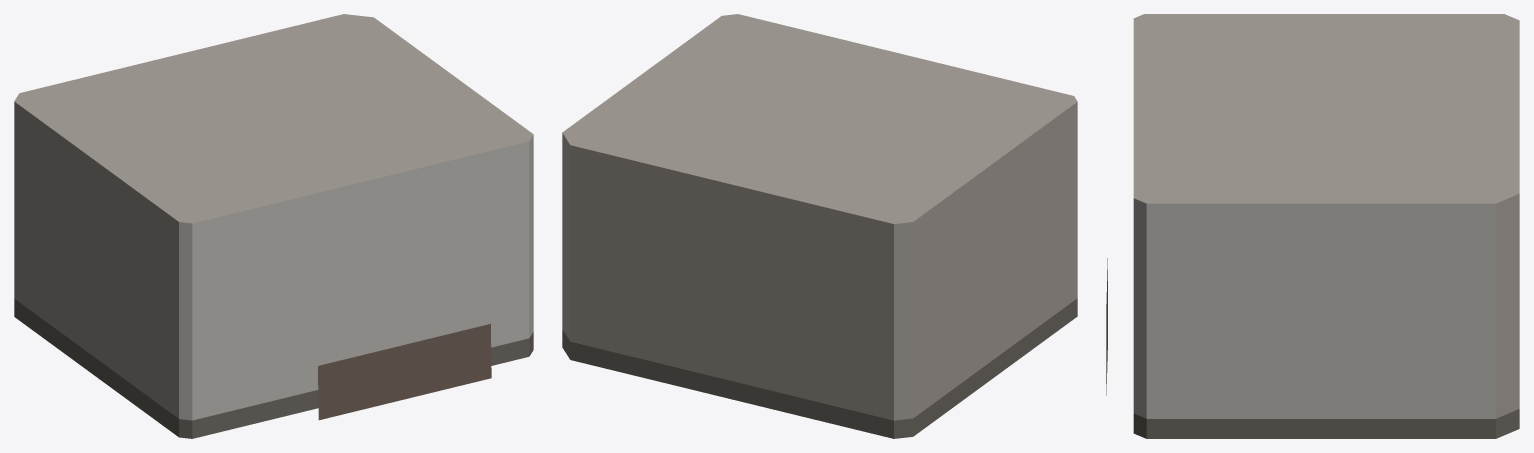
File: loin-etape-1.glb
3 views of the same model, side by side, from view 1: azimuth 30°, elevation 25°; view 2: azimuth 150°, elevation 25°; view 3: azimuth 270°, elevation 25° (orthographic). The views are drawn at different scales.
Visible parts, largest first — view 1: loin; view 2: loin; view 3: loin.
Boxes of the visible parts, <box> form: loin: <box>14,14,533,438</box>; loin: <box>562,14,1077,438</box>; loin: <box>1106,14,1519,438</box>.
Bounding box in the file's own units: 0.6772 × 0.3918 × 0.6241.
